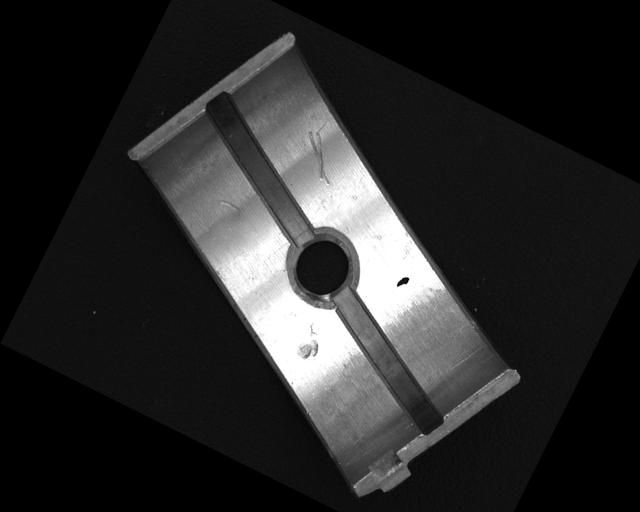blot: (395, 273, 410, 291)
bruise: (293, 320, 329, 365)
gap: (167, 87, 351, 250), (299, 285, 477, 440)
hole: (274, 219, 368, 313)
nick: (289, 126, 348, 187), (216, 196, 243, 215)
